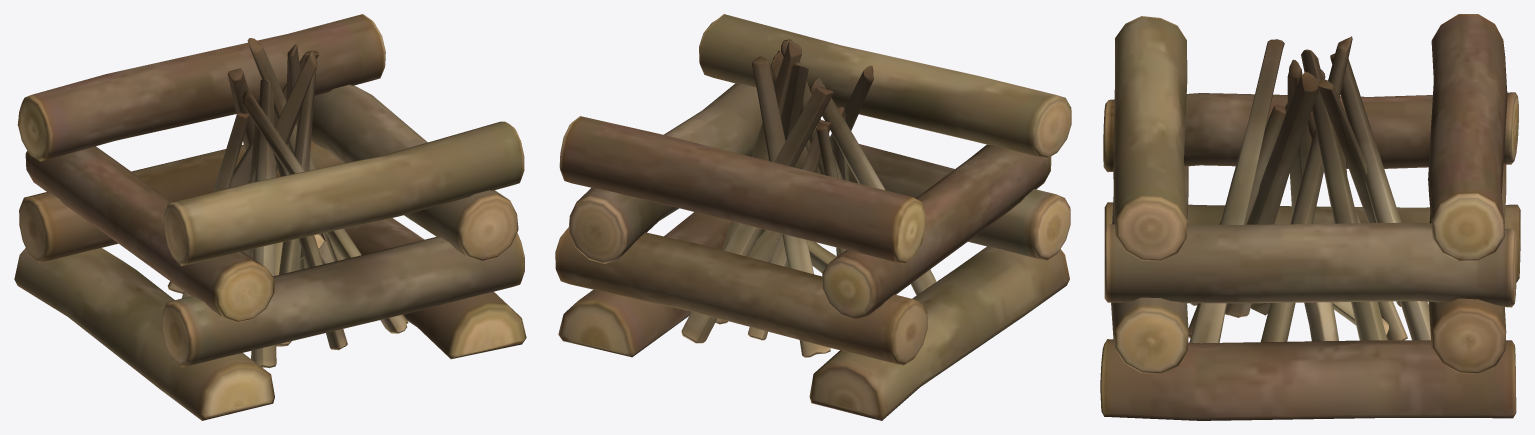
The model's file is campfire.glb.
The picture shows the model from 3 angles, left to right: view 1: azimuth 30°, elevation 25°; view 2: azimuth 150°, elevation 25°; view 3: azimuth 270°, elevation 25°; orthographic projection. The views are drawn at different scales.
Visible parts, largest first — view 1: EvtobjCampfire_node1; view 2: EvtobjCampfire_node1; view 3: EvtobjCampfire_node1.
Part boxes in pixels (x1,y1,x2,y2): EvtobjCampfire_node1: (14, 14, 526, 420); EvtobjCampfire_node1: (555, 14, 1071, 420); EvtobjCampfire_node1: (1100, 14, 1520, 420).
Size of the model in its own units: 1.66 by 1.25 by 1.59.
Materials: 1 (1 with a texture image).
